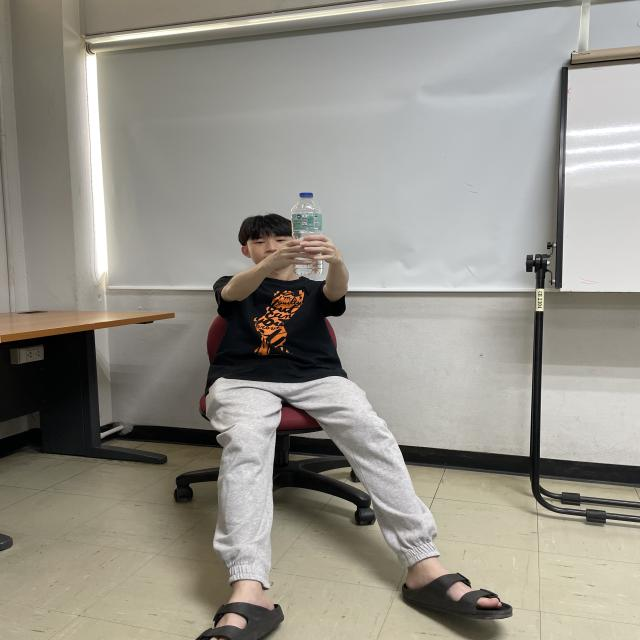bottle: (290, 192, 326, 276)
